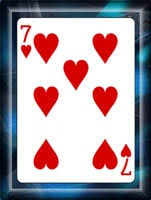seven of hearts: (17, 17, 134, 181)
